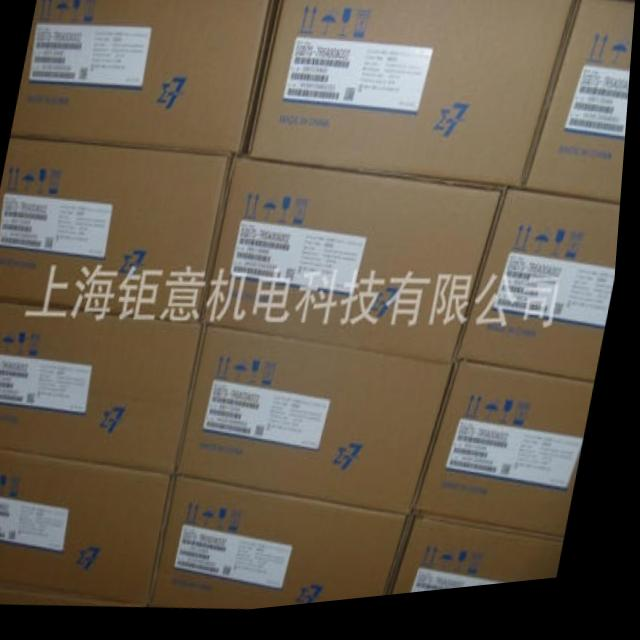box: (248, 0, 580, 201), (207, 159, 510, 374), (182, 329, 461, 525), (0, 140, 235, 327), (11, 0, 278, 160), (0, 301, 209, 479), (158, 479, 421, 615), (421, 371, 601, 554), (461, 200, 624, 397), (0, 449, 182, 611), (526, 3, 636, 217), (398, 526, 572, 605), (0, 577, 153, 611)
